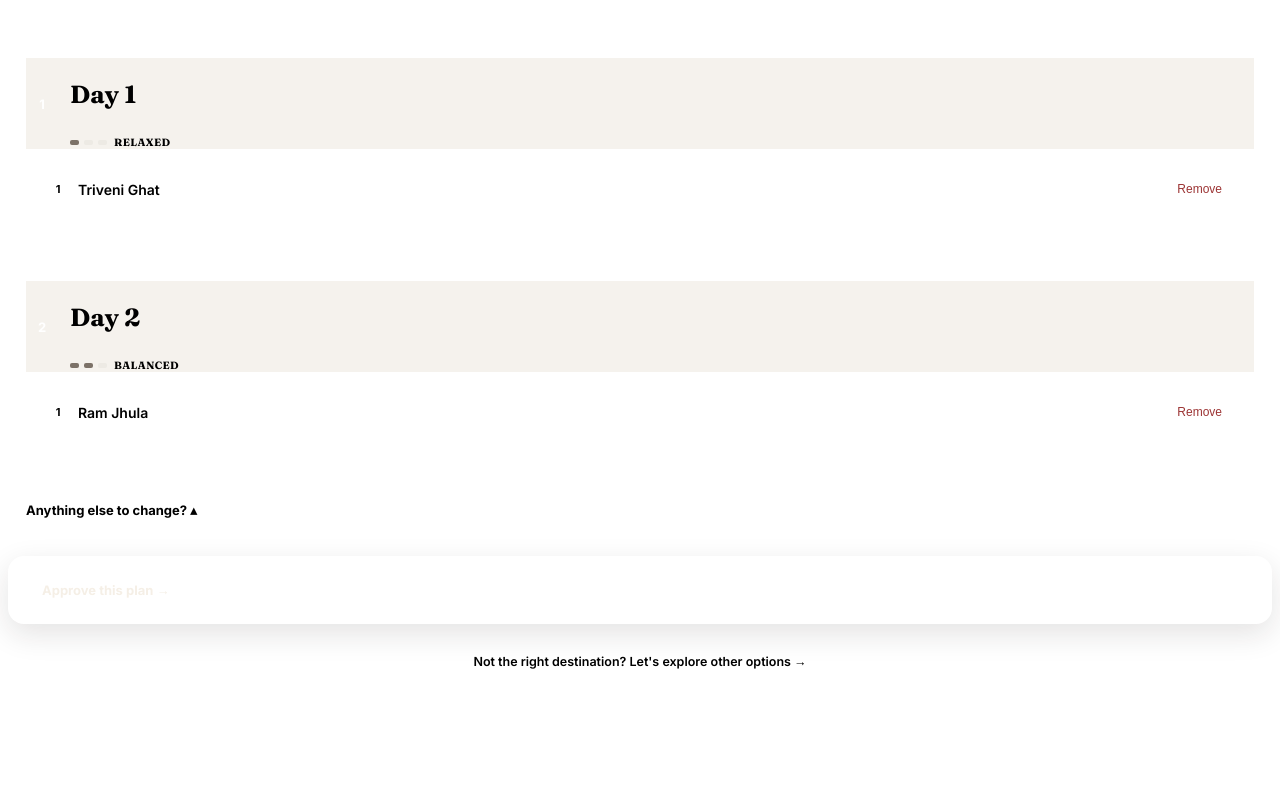
TripPreview real Guide Plan Builder › reopen_destination_discovery reversal link › shows Guide's clarifying question inline, without navigating
This screenshot has width=1280, height=798.
(page scrolled)
Click the button "Not the right destination? Let's explore other options →": [640, 662] box [473,654,807,669]
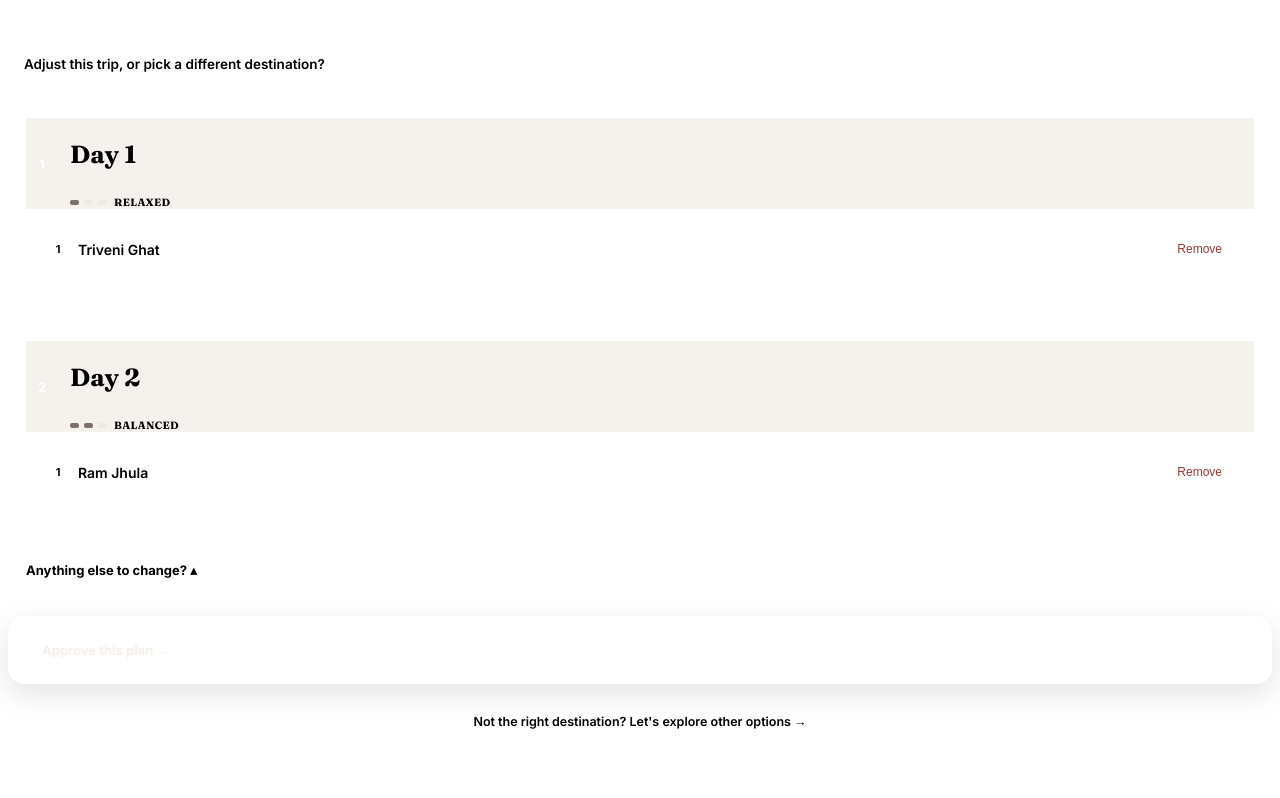
expect the text "Adjust this trip, or pick a different destination?" is shown: met, box [24,56,325,72]
